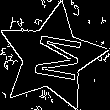M_W: (23, 30, 81, 85)
